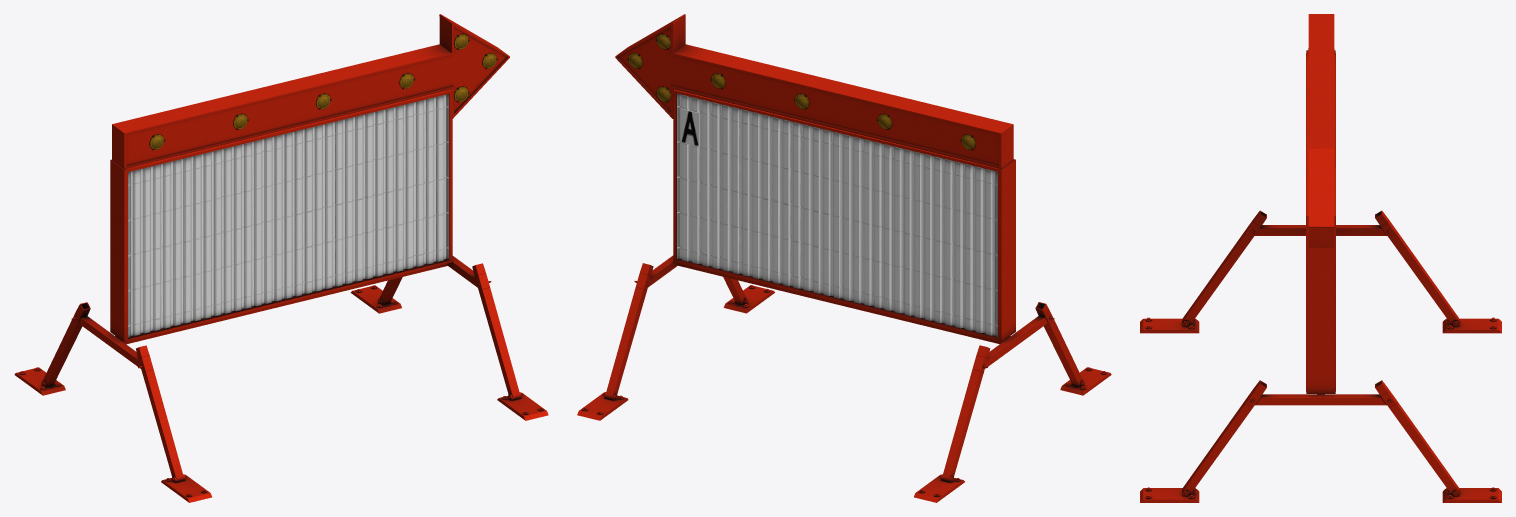
File: marquee_sign_lod2.fbx
3 renders of one model, left to right at view 1: azimuth 30°, elevation 25°; view 2: azimuth 150°, elevation 25°; view 3: azimuth 270°, elevation 25°, orthographic. The views are drawn at different scales.
Parts seen in each view (by area): view 1: marquee, arrow, stand; view 2: marquee, arrow, stand, letter_a; view 3: stand, arrow, marquee.
Part boxes in pixels (x1=…): marquee: x1=110, y1=89, x2=452, y2=342; arrow: x1=112, y1=14, x2=509, y2=168; stand: x1=14, y1=256, x2=548, y2=502; marquee: x1=673, y1=89, x2=1015, y2=342; arrow: x1=615, y1=14, x2=1013, y2=168; stand: x1=577, y1=255, x2=1111, y2=502; letter_a: x1=681, y1=108, x2=699, y2=146; stand: x1=1140, y1=210, x2=1501, y2=502; arrow: x1=1308, y1=14, x2=1334, y2=247; marquee: x1=1306, y1=50, x2=1335, y2=393.
Bounding box in the file's own units: 257 × 205 × 194.
